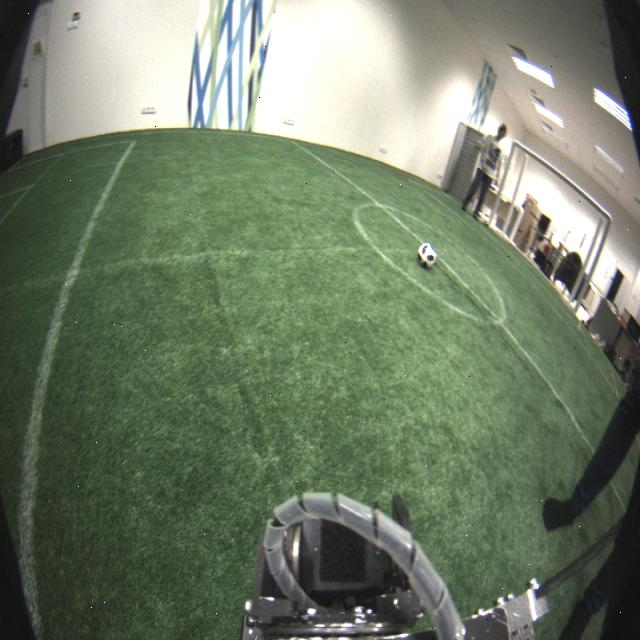ball: (417, 242, 436, 272)
goalpost: (573, 213, 615, 314), (488, 138, 519, 228)
